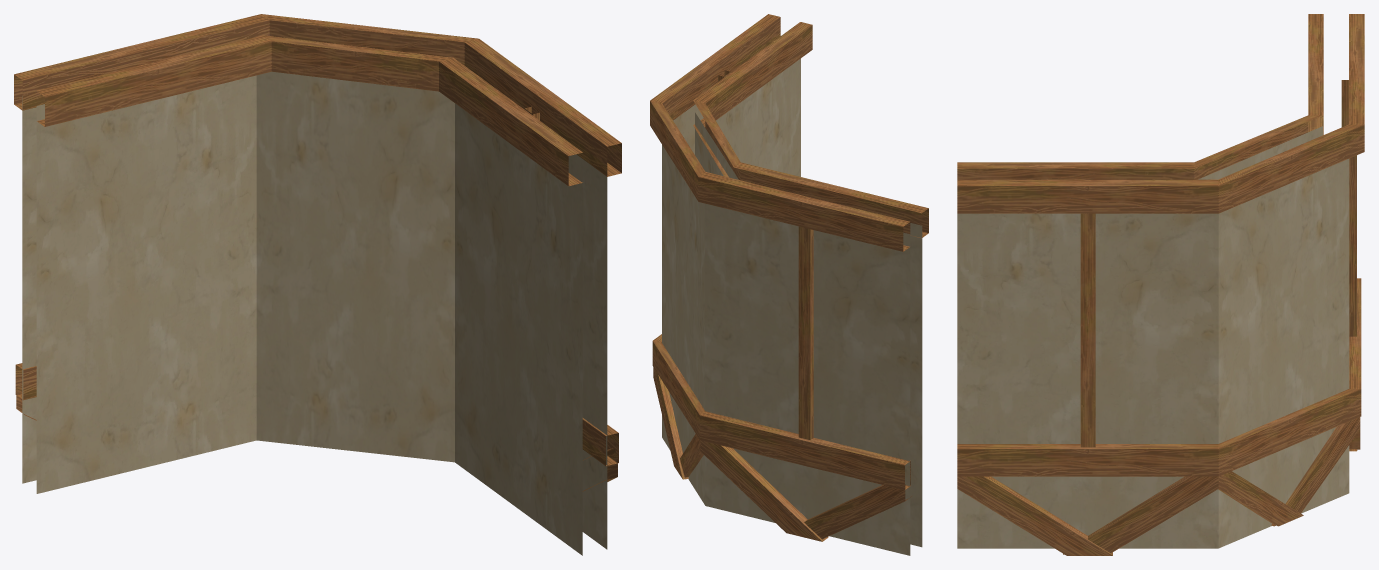
Rendered from Overhang_Plaster_Corner_Front.gltf.
The picture shows the model from 3 angles, left to right: view 1: azimuth 30°, elevation 25°; view 2: azimuth 150°, elevation 25°; view 3: azimuth 270°, elevation 25°; orthographic projection. The views are drawn at different scales.
Parts seen in each view (by area): view 1: Overhang_Plaster_Corner_Front; view 2: Overhang_Plaster_Corner_Front; view 3: Overhang_Plaster_Corner_Front.
Boxes of the visible parts, x1,y1,x2,y2 form: Overhang_Plaster_Corner_Front: (14,14,621,555); Overhang_Plaster_Corner_Front: (650,14,928,555); Overhang_Plaster_Corner_Front: (957,14,1364,555).
Bounding box in the file's own units: 3.12 × 3.14 × 3.12.
Materials: 2 (2 with a texture image).
